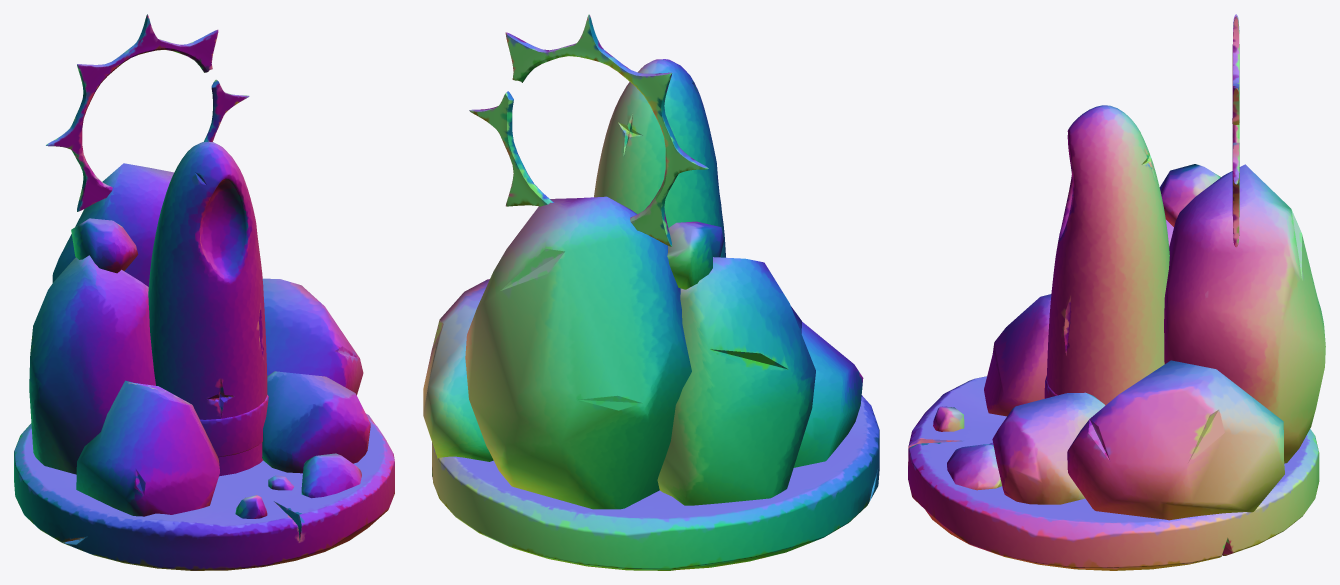
File: NPC_AstraeaStatue.fbx
3 views of the same model, side by side, from view 1: azimuth 30°, elevation 25°; view 2: azimuth 150°, elevation 25°; view 3: azimuth 270°, elevation 25° (orthographic). The views are drawn at different scales.
Parts seen in each view (by area): view 1: Astraea_Statue; view 2: Astraea_Statue; view 3: Astraea_Statue.
Boxes of the visible parts, x1,y1,x2,y2 form: Astraea_Statue: (14,14,394,570); Astraea_Statue: (423,14,879,570); Astraea_Statue: (908,14,1325,570).
Size of the model in its own units: 3235 by 4060 by 3251.
